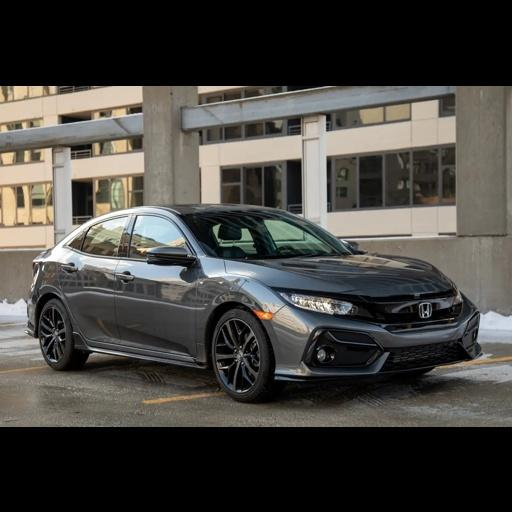hatchback: (25, 205, 480, 402)
